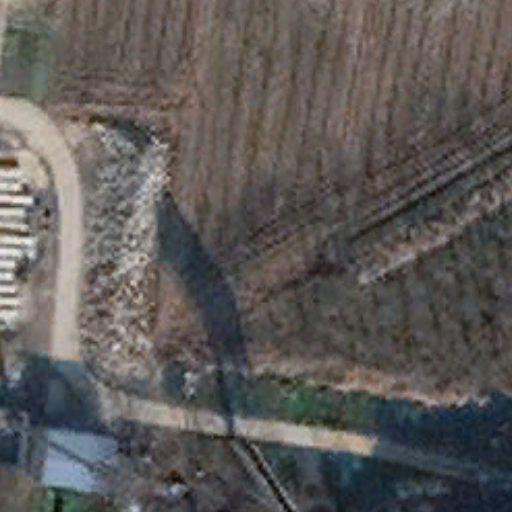msw: (82, 118, 170, 386)
